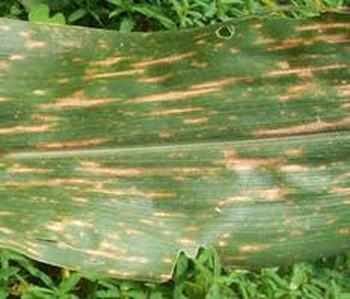Corn Gray leaf spot: (1, 12, 350, 287)
